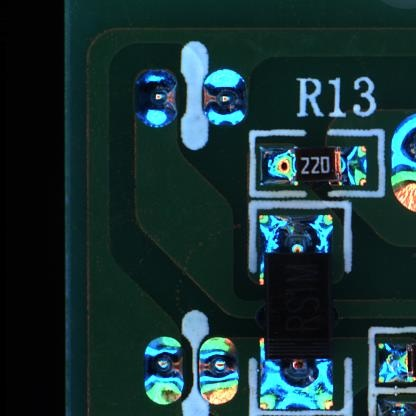spot: (197, 335, 239, 406), (132, 68, 179, 130), (200, 68, 248, 128), (143, 336, 183, 405), (390, 112, 416, 212)
